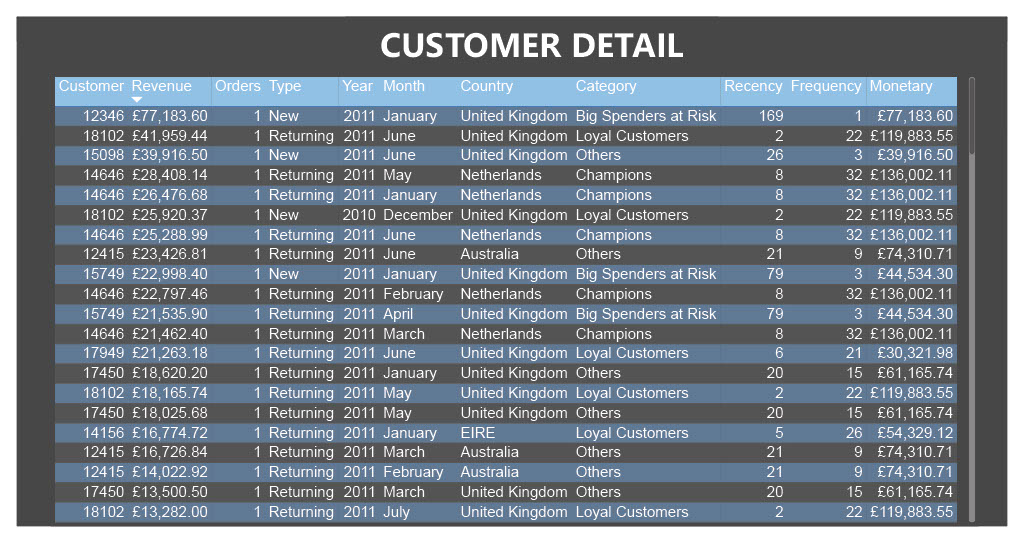

Layout of this report page (visuals, bound fields, positions):
{"tool":"powerbi","page":{"name":"Table Summary","canvas":[1400,720],"ordinal":1},"visuals":[{"type":"tableEx","fields":{"Values":["edata_customer_type.CustomerID","edata_customer_type.Total Revenue","edata_customer_type.Total Orders","edata_customer_type.CustomerType","edata_customer_type.Year_Month.Variation.Date Hierarchy.Year","edata_customer_type.Year_Month.Variation.Date Hierarchy.Month","edata_customer_type.Country","edata_rfm_segmented.RFM_Segment","edata_rfm_segmented.Recency","edata_rfm_segmented.Frequency","edata_rfm_segmented.Monetary"]},"box":[48,80,1312,640],"z":0},{"type":"textbox","box":[464,0,528,80],"z":1000}]}

Visuals, with their boxes on the page's 1400x720 design canvas (x1, y1, x2, y2). These are canvas units, not pixel positions in the 1024x543 screenshot, which may show the page scaled, cropped or inside an application window:
tableEx - edata_customer_type.CustomerID x edata_customer_type.Total Revenue: l=48, t=80, r=1360, b=720
textbox: l=464, t=0, r=992, b=80
